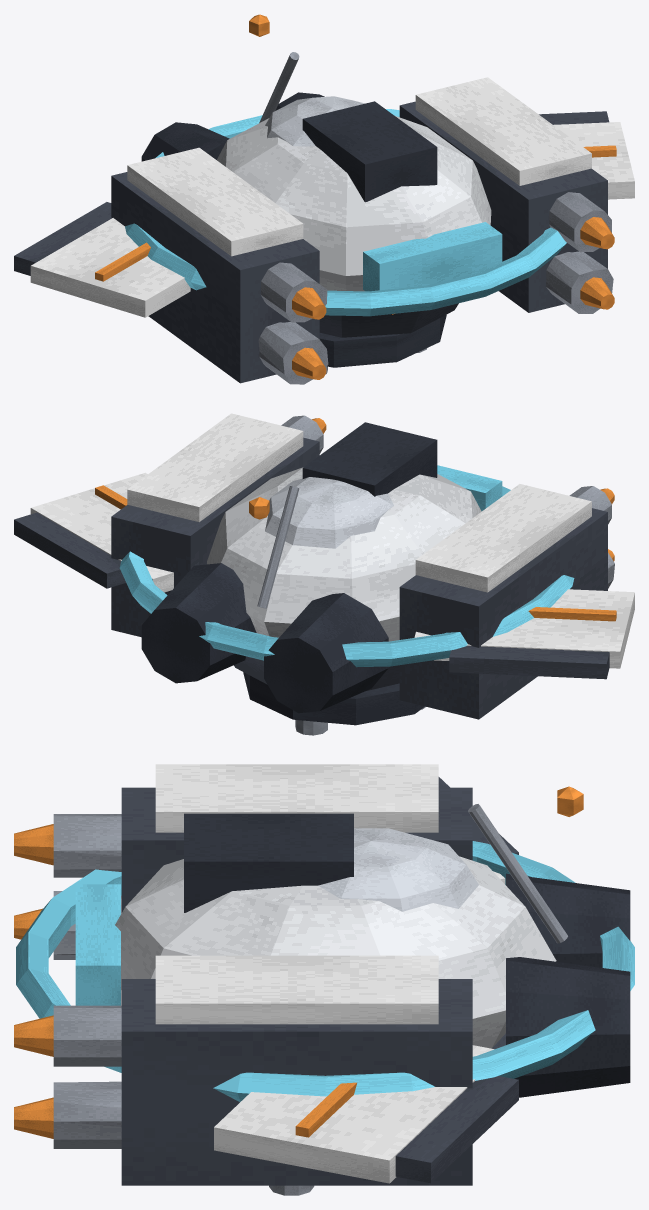
Rendered from drone_rocket.glb.
The picture shows the model from 3 angles, top to bottom: view 1: azimuth 30°, elevation 25°; view 2: azimuth 150°, elevation 25°; view 3: azimuth 270°, elevation 25°; orthographic projection. The views are drawn at different scales.
Visible parts, largest first — view 1: drone_rocket, halo; view 2: drone_rocket, halo; view 3: drone_rocket, halo.
Part boxes in pixels (x1=…): drone_rocket: x1=14, y1=14, x2=634, y2=384; halo: x1=125, y1=109, x2=566, y2=316; drone_rocket: x1=14, y1=413, x2=634, y2=735; halo: x1=119, y1=486, x2=574, y2=667; drone_rocket: x1=14, y1=764, x2=630, y2=1195; halo: x1=16, y1=841, x2=634, y2=1101.
Size of the model in its own units: 1.64 by 0.715 by 1.1.
2 materials, 2 textured.
